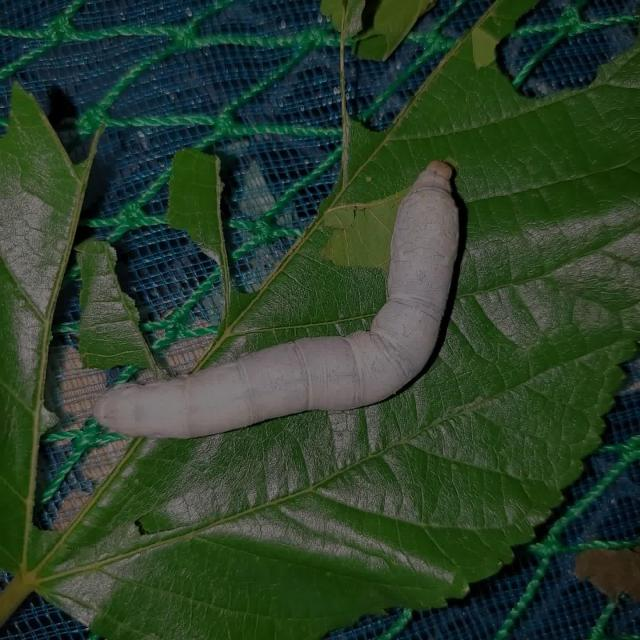Healthy: (67, 128, 510, 480)
